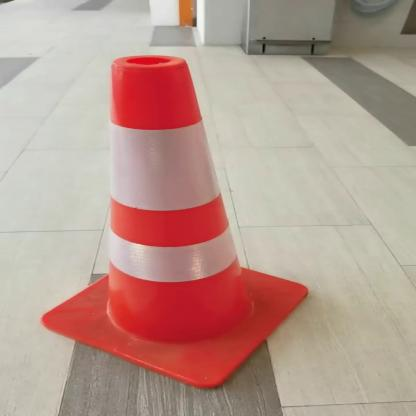cone: (44, 47, 307, 391)
